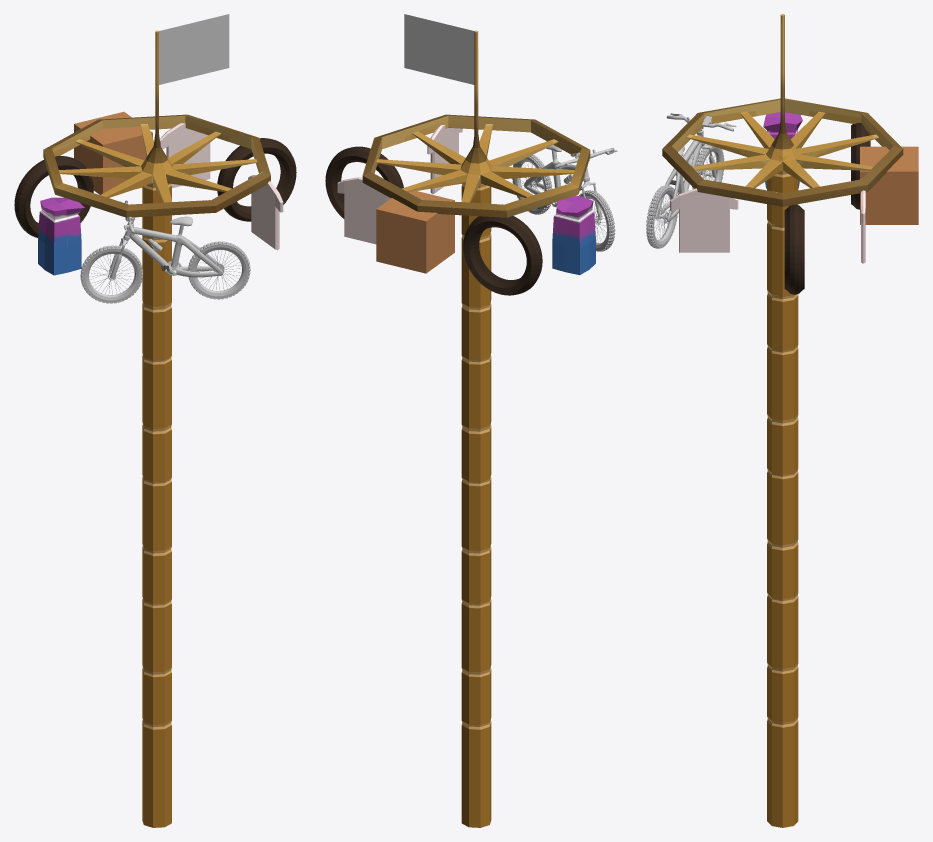
The model's file is pinang.fbx.
3 views of the same model, side by side, from view 1: azimuth 30°, elevation 25°; view 2: azimuth 150°, elevation 25°; view 3: azimuth 270°, elevation 25° (orthographic). The views are drawn at different scales.
Parts seen in each view (by area): view 1: Plane.005, Plane.007, Plane.006, Plane.009, Plane.008, rangka_sepeda_Cube, ban_sepeda_depan_Compon1144.003, gear_belakang_gear_belakang.001_Circle.012, Plane.010, Plane.000; view 2: Plane.005, Plane.007, Plane.008, Plane.006, Plane.009, Plane.000, ban_sepeda_depan_Compon1144.003, Plane.010, gear_belakang_gear_belakang.001_Circle.012, rangka_sepeda_Cube; view 3: Plane.005, Plane.008, Plane.010, Plane.007, gear_belakang_gear_belakang.001_Circle.012, rangka_sepeda_Cube, Plane.009, ban_sepeda_depan_Compon1144.003, Cylinder_Cylinder.001.
Boxes of the visible parts, <box> form: Plane.005: <box>43,30,270,827</box>; Plane.007: <box>14,138,296,237</box>; Plane.006: <box>159,14,229,84</box>; Plane.009: <box>38,197,84,275</box>; Plane.008: <box>74,111,152,194</box>; rangka_sepeda_Cube: <box>123,216,223,277</box>; ban_sepeda_depan_Compon1144.003: <box>80,245,143,303</box>; gear_belakang_gear_belakang.001_Circle.012: <box>188,241,250,299</box>; Plane.010: <box>248,175,283,250</box>; Plane.000: <box>159,123,210,188</box>; Plane.005: <box>362,30,590,827</box>; Plane.007: <box>325,146,542,295</box>; Plane.008: <box>376,190,454,273</box>; Plane.006: <box>404,14,474,84</box>; Plane.009: <box>552,195,595,275</box>; Plane.000: <box>337,177,390,244</box>; ban_sepeda_depan_Compon1144.003: <box>579,190,615,251</box>; Plane.010: <box>427,124,462,194</box>; gear_belakang_gear_belakang.001_Circle.012: <box>512,155,552,214</box>; rangka_sepeda_Cube: <box>524,141,589,194</box>; Plane.005: <box>662,14,903,827</box>; Plane.008: <box>860,146,918,224</box>; Plane.010: <box>670,188,738,252</box>; Plane.007: <box>784,122,870,294</box>; gear_belakang_gear_belakang.001_Circle.012: <box>646,185,677,248</box>; rangka_sepeda_Cube: <box>655,129,705,221</box>; Plane.009: <box>763,112,802,188</box>; ban_sepeda_depan_Compon1144.003: <box>692,144,724,189</box>; Cylinder_Cylinder.001: <box>666,113,736,177</box>.
Bounding box in the file's own units: 1939 × 5683 × 1741.
